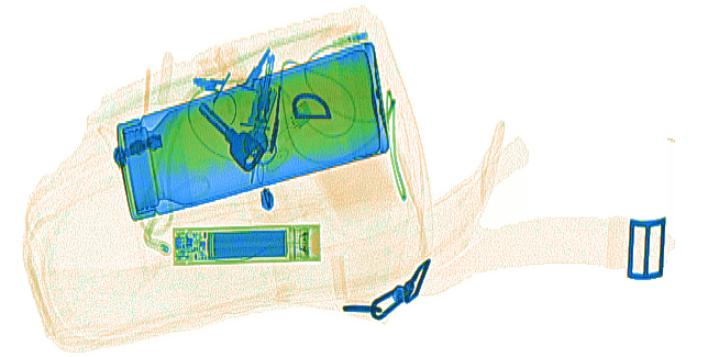battery: (203, 230, 289, 260)
